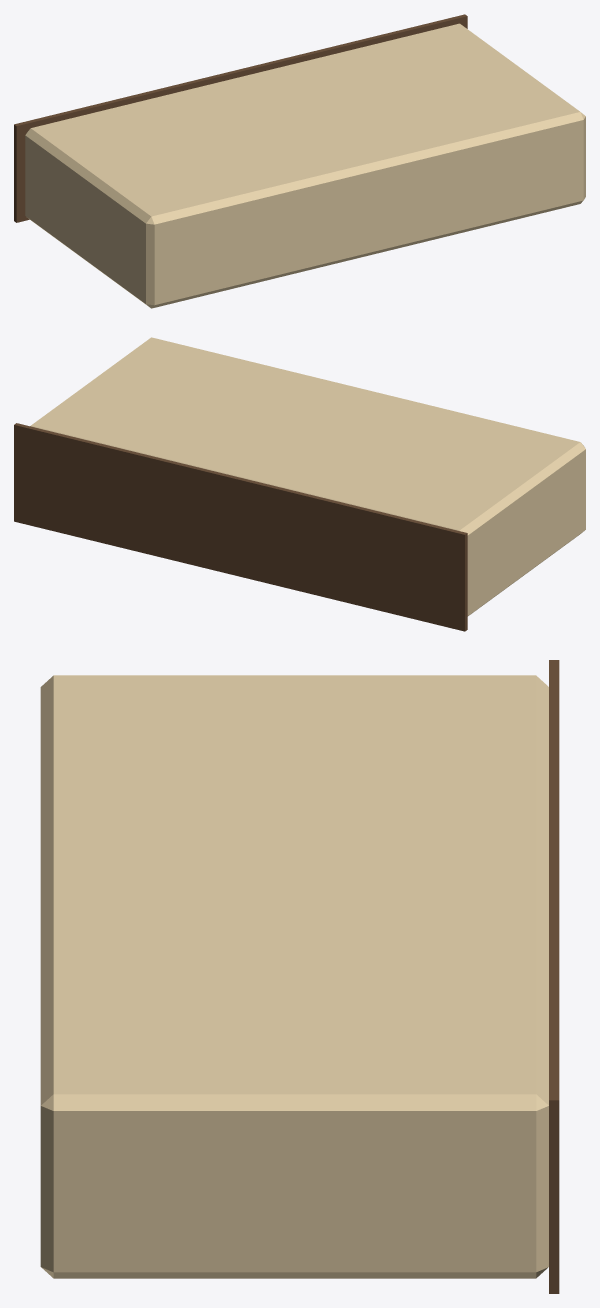
Rendered from ENV_SandstonePlatform.fbx.
The picture shows the model from 3 angles, top to bottom: view 1: azimuth 30°, elevation 25°; view 2: azimuth 150°, elevation 25°; view 3: azimuth 270°, elevation 25°; orthographic projection. The views are drawn at different scales.
Parts seen in each view (by area): view 1: ENV_SandstonePlatform, ENV_SandstonePlatform_Edge; view 2: ENV_SandstonePlatform, ENV_SandstonePlatform_Edge; view 3: ENV_SandstonePlatform, ENV_SandstonePlatform_Edge.
Part boxes in pixels (x1,y1,x2,y2): ENV_SandstonePlatform: (25, 23, 585, 308); ENV_SandstonePlatform_Edge: (14, 14, 467, 222); ENV_SandstonePlatform: (30, 337, 585, 616); ENV_SandstonePlatform_Edge: (14, 423, 467, 631); ENV_SandstonePlatform: (40, 675, 548, 1278); ENV_SandstonePlatform_Edge: (549, 660, 559, 1293).
Bounding box in the file's own units: 205 × 42 × 102.
